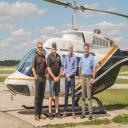helicopter: (2, 11, 128, 110)
